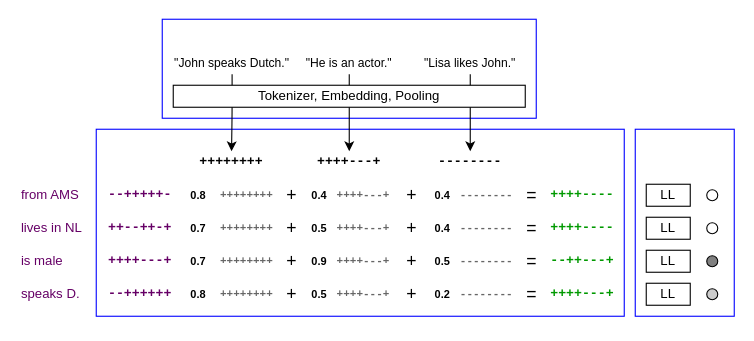
The diagram is 754 pixels wide and 341 high, and some of its shapes have lost their labels. The box of each missing label's shape, as (x1, y1, x2, y2) in pixels:
Attention Block: (95, 128, 624, 316)
Classification Block: (634, 128, 734, 316)
Embedding Block: (161, 18, 536, 118)
